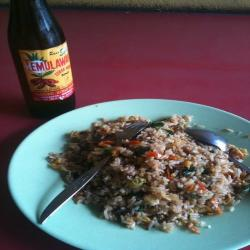rice: (62, 125, 241, 232)
